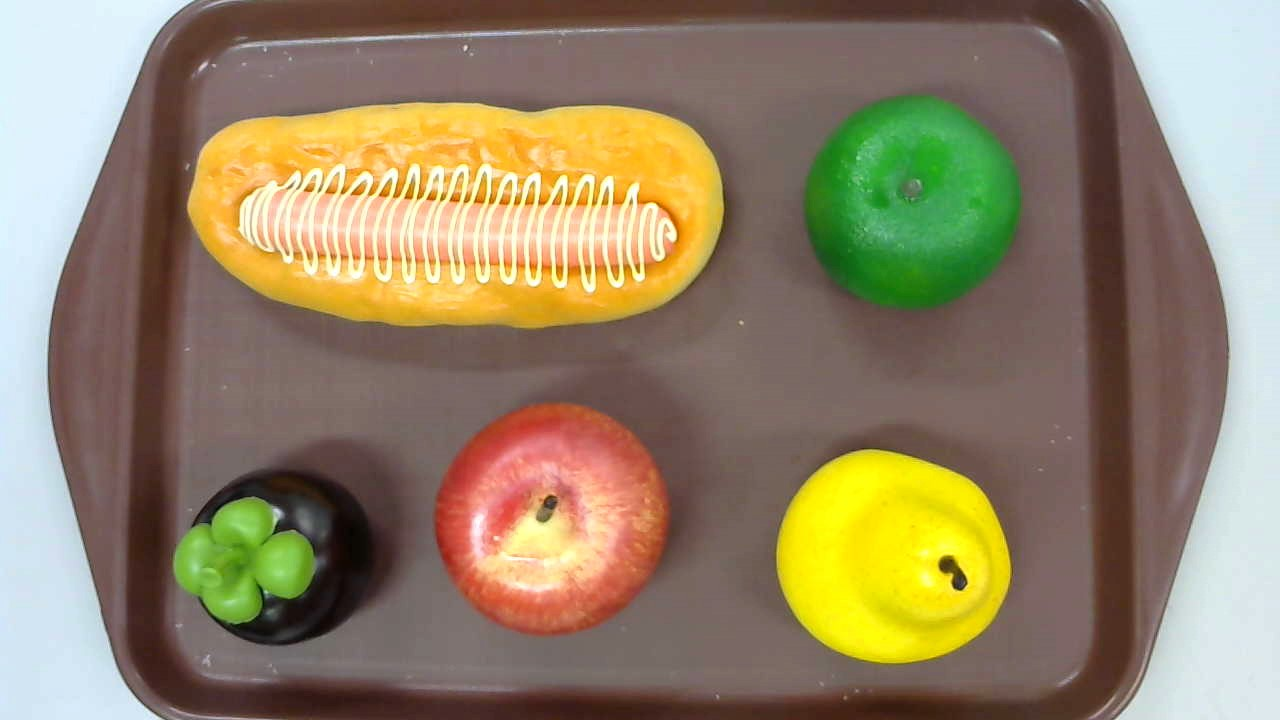green orange: (803, 92, 1020, 309)
hot dog: (186, 100, 725, 333)
mangosteen: (172, 467, 378, 647)
red apple: (434, 403, 671, 638)
yellow pear: (775, 448, 1010, 665)
